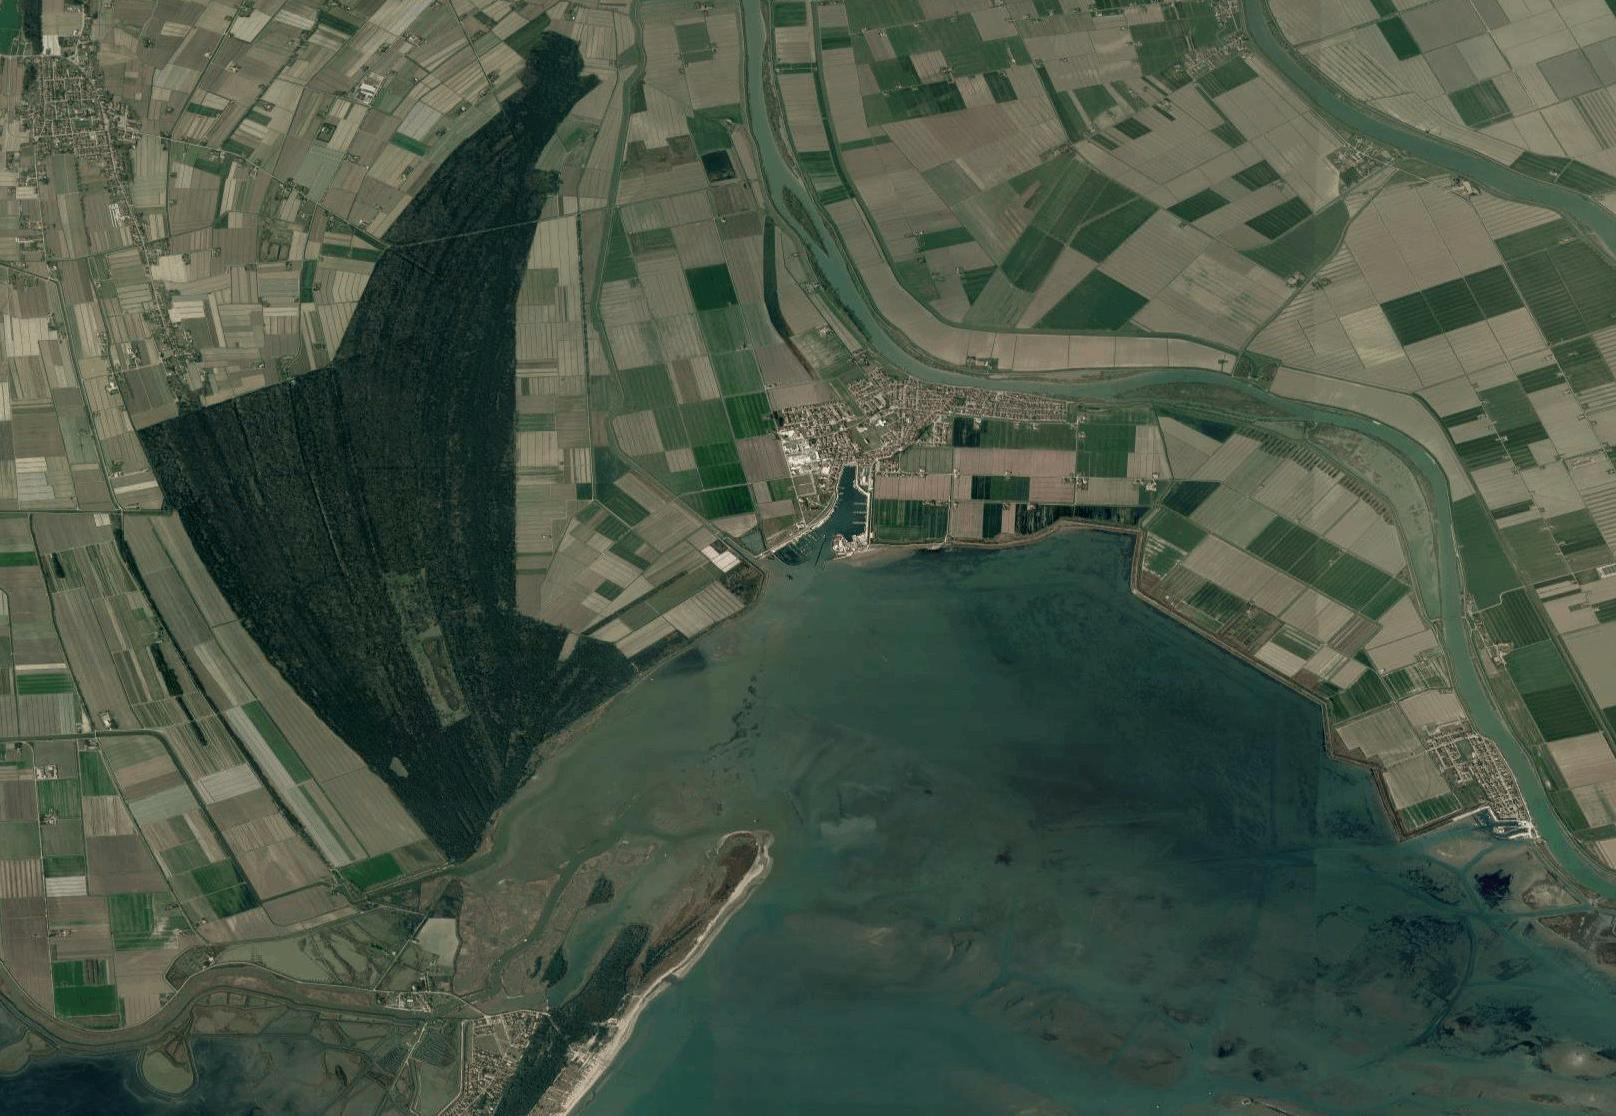harbor: (808, 454, 887, 567)
